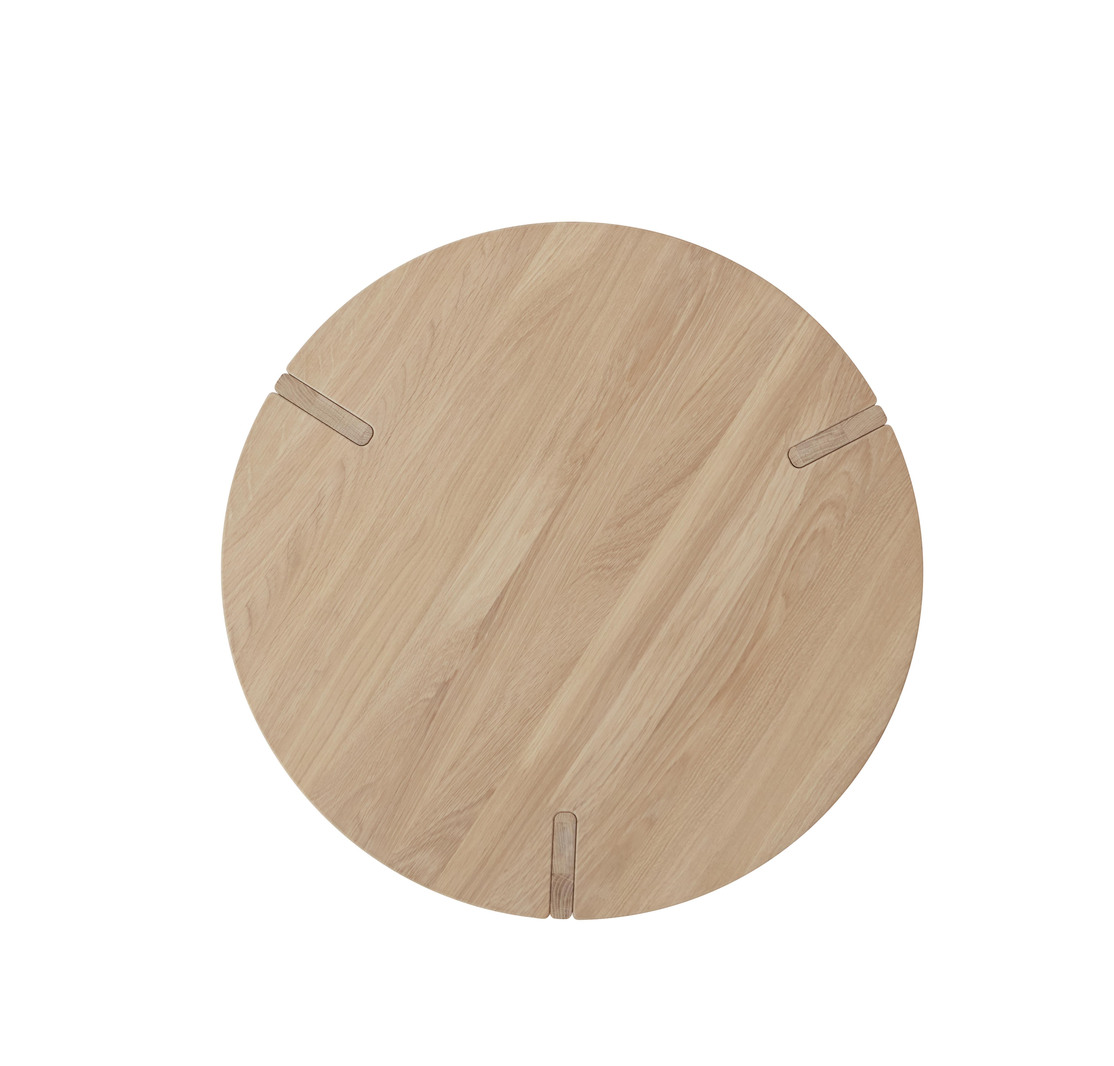gloved_hand: (202, 206, 944, 937)
